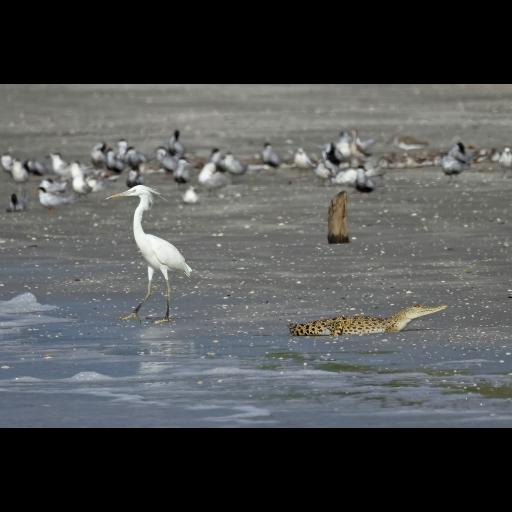chinese_egret: (104, 184, 192, 324)
